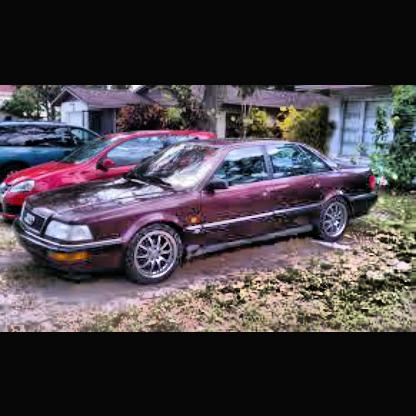Audi V8 Sedan 1994: (18, 141, 379, 288)
